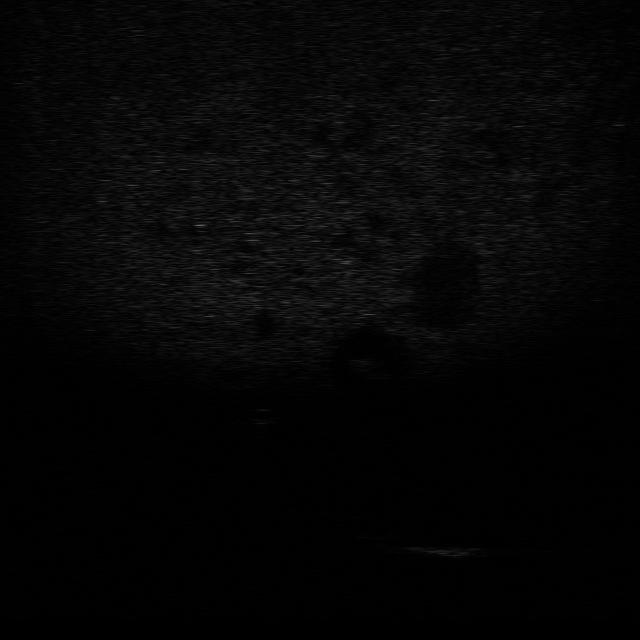ball: (244, 403, 280, 427)
metal bucket: (396, 536, 490, 560)
tyre: (337, 514, 408, 540)
